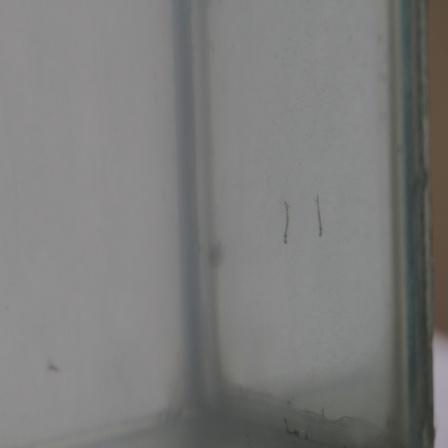Jentik-Nyamuk: (278, 198, 294, 249)
